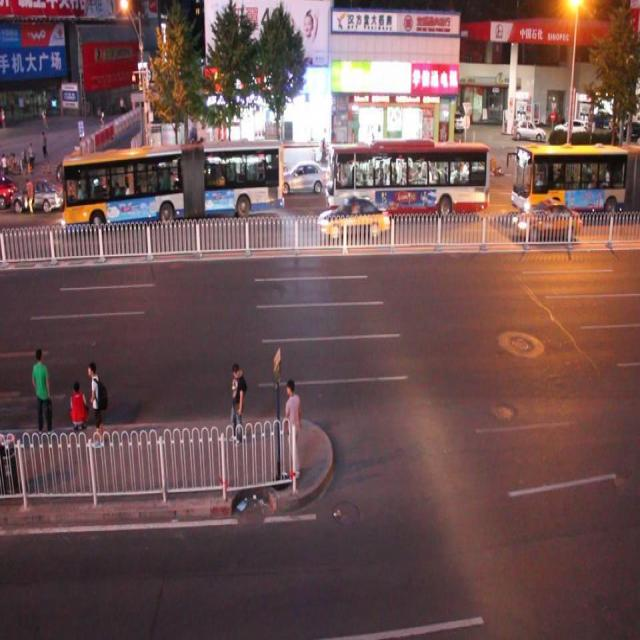BigCar: (57, 154, 299, 228), (324, 144, 497, 212), (499, 140, 634, 212)
car: (322, 190, 387, 233)
